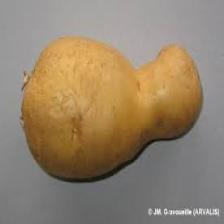Damaged potato: (23, 34, 203, 187)
